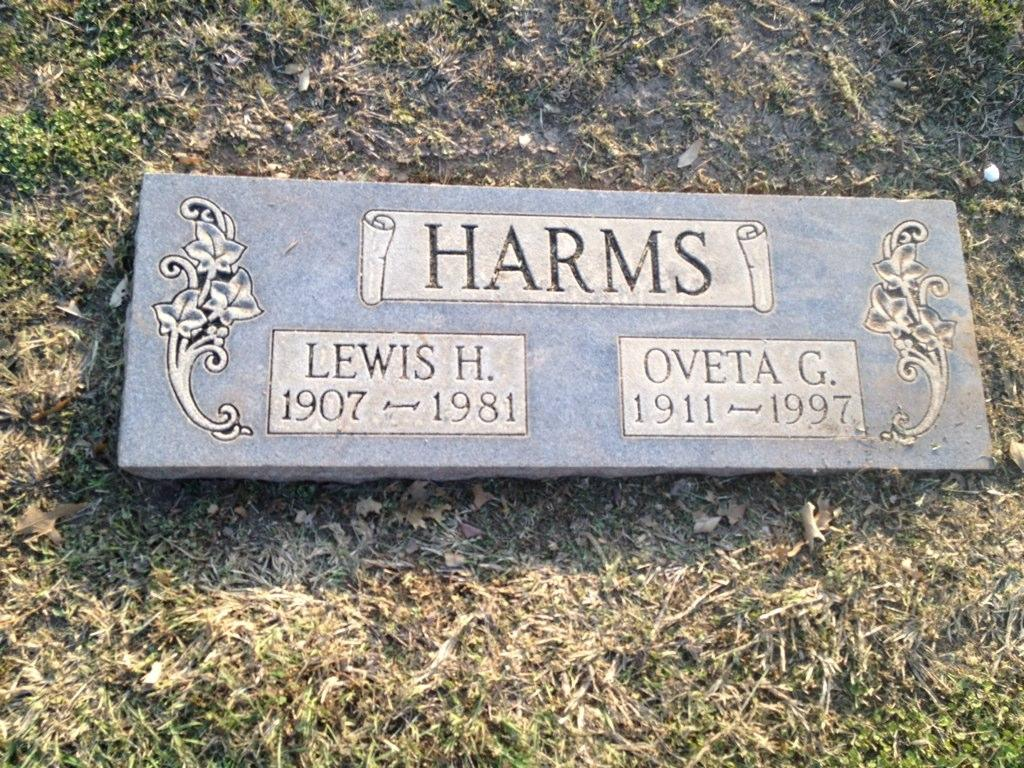flat: (101, 137, 1011, 524)
